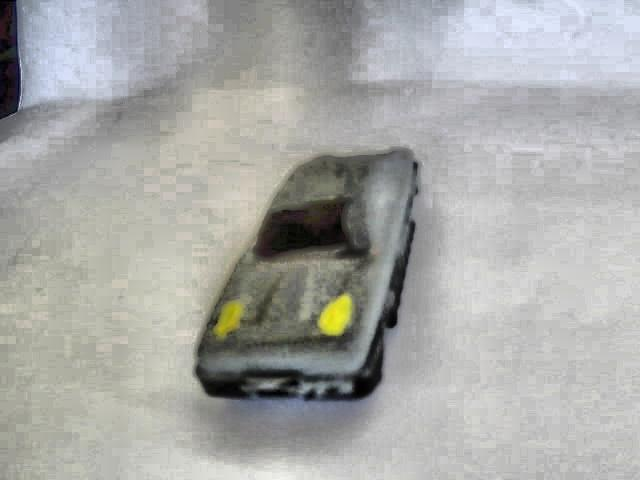normal_car: (190, 139, 419, 434)
